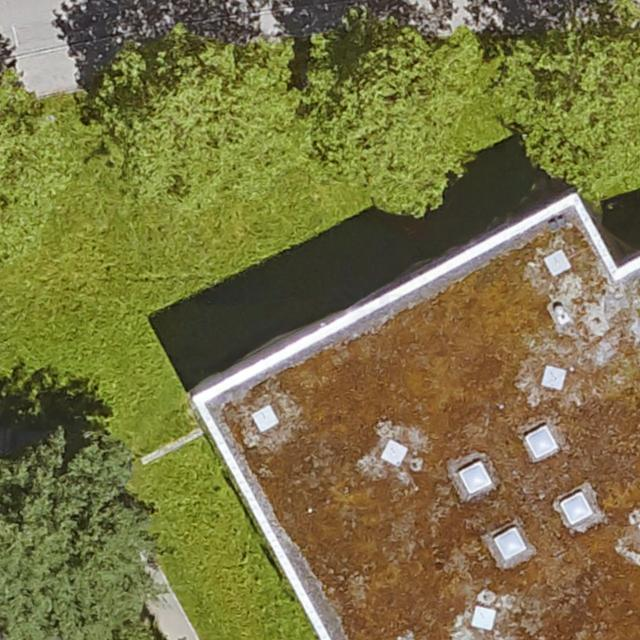tree: (0, 432, 183, 637), (90, 33, 293, 203), (303, 17, 474, 198), (514, 18, 639, 194), (0, 64, 74, 263)
